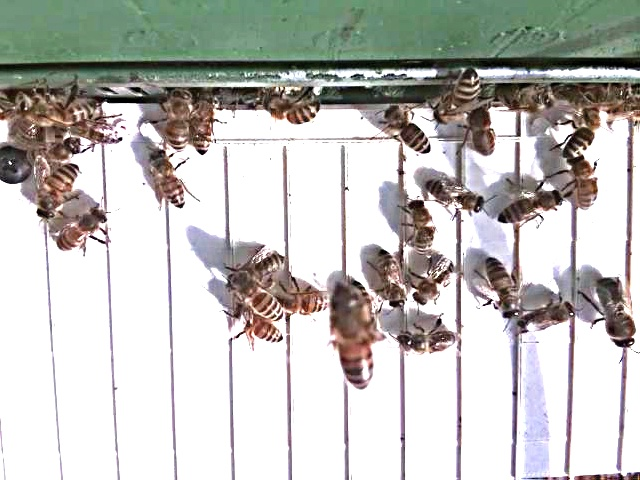Drone: (591, 273, 638, 353)
Worker: (332, 282, 376, 394), (481, 257, 523, 324), (38, 161, 82, 224), (384, 104, 434, 159), (231, 273, 286, 323), (498, 187, 566, 226), (149, 147, 189, 213), (57, 207, 110, 256), (426, 178, 490, 218), (412, 255, 458, 308), (562, 106, 605, 161), (514, 301, 581, 336), (374, 246, 408, 314), (165, 85, 194, 157), (405, 197, 437, 260), (397, 328, 461, 359), (569, 161, 602, 214), (190, 94, 215, 161)
